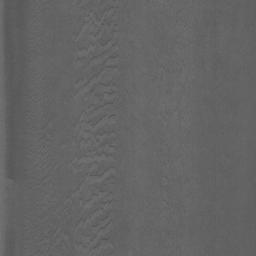Silk spot: (31, 0, 129, 256), (152, 60, 184, 81), (40, 123, 56, 165)
